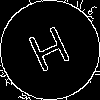H: (25, 25, 78, 82)
